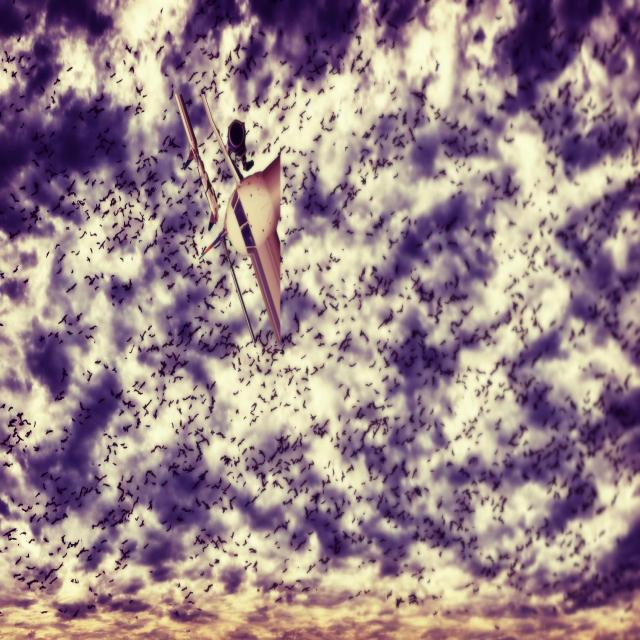airplane: (174, 90, 283, 348)
